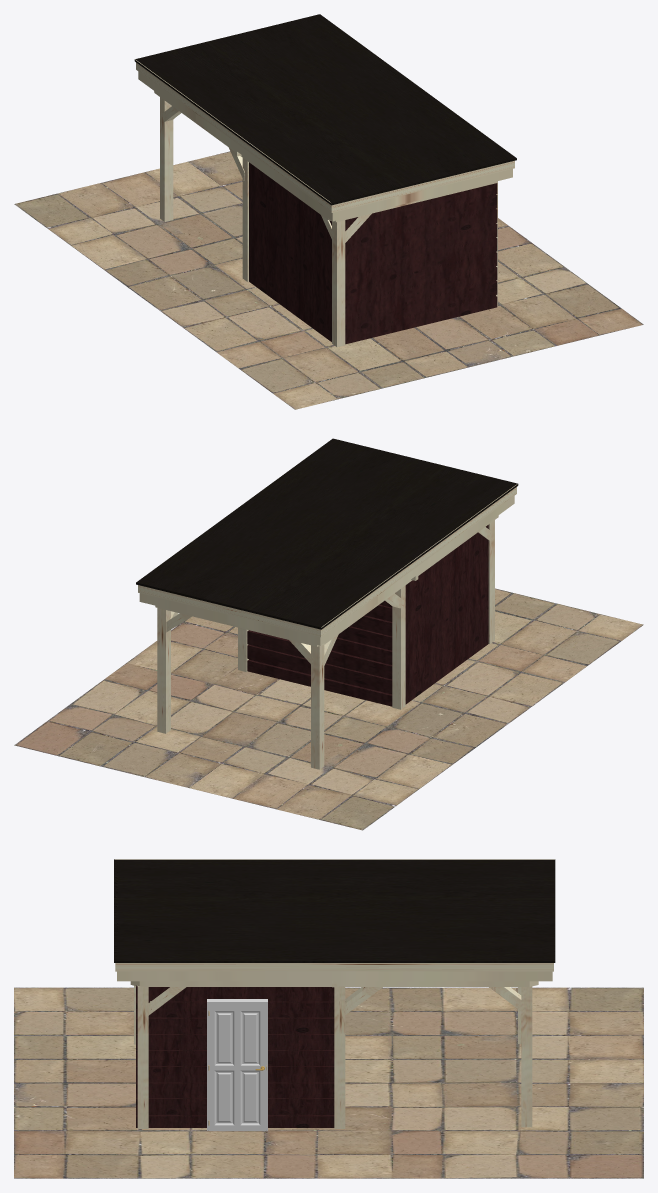
Rendered from Platak-transformed.glb.
The picture shows the model from 3 angles, top to bottom: view 1: azimuth 30°, elevation 25°; view 2: azimuth 150°, elevation 25°; view 3: azimuth 270°, elevation 25°; orthographic projection. The views are drawn at different scales.
Visible parts, largest first — view 1: Plane.002, Cube.090, Plane.001, Cube.055; view 2: Plane.002, Cube.090, Plane.001, Cube.055; view 3: Plane.002, Cube.090, Plane.001, Cube.055, Door Frame.001.
Part boxes in pixels (bbox=[...]): Plane.002: bbox=[14, 151, 643, 409]; Cube.090: bbox=[134, 14, 516, 205]; Plane.001: bbox=[249, 162, 497, 344]; Cube.055: bbox=[135, 59, 514, 347]; Plane.002: bbox=[14, 588, 643, 830]; Cube.090: bbox=[136, 438, 518, 629]; Plane.001: bbox=[247, 525, 488, 706]; Cube.055: bbox=[138, 484, 517, 769]; Plane.002: bbox=[14, 987, 643, 1178]; Cube.090: bbox=[114, 859, 555, 962]; Plane.001: bbox=[136, 985, 334, 1127]; Cube.055: bbox=[115, 859, 554, 1128]; Door Frame.001: bbox=[207, 999, 267, 1130].
Bounding box in the file's own units: 3.69 × 1.58 × 5.15.
Materials: 8 (4 with a texture image).
